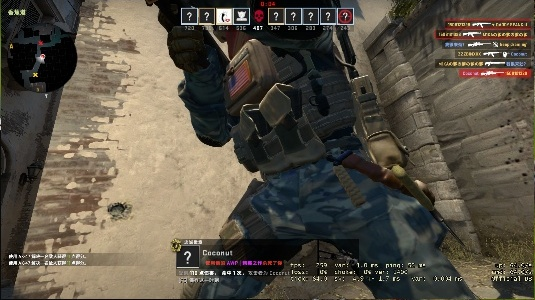body: (156, 2, 460, 300)
